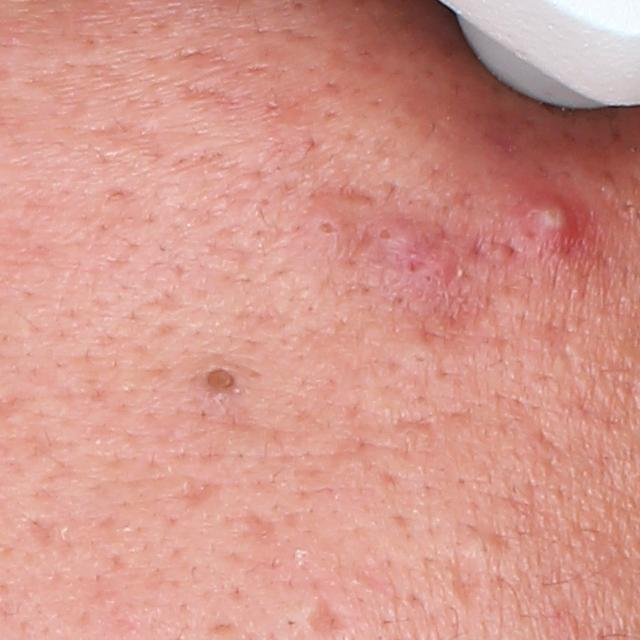atrophic_scar: (221, 506, 281, 551), (447, 560, 491, 607), (175, 473, 225, 507)
comedo: (195, 362, 240, 399)
pustule: (517, 192, 582, 252)
